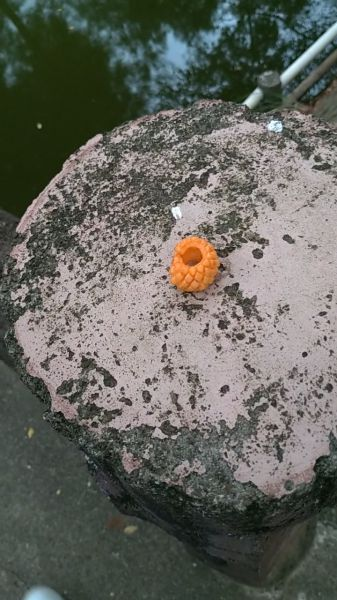eggs: (162, 230, 222, 296)
